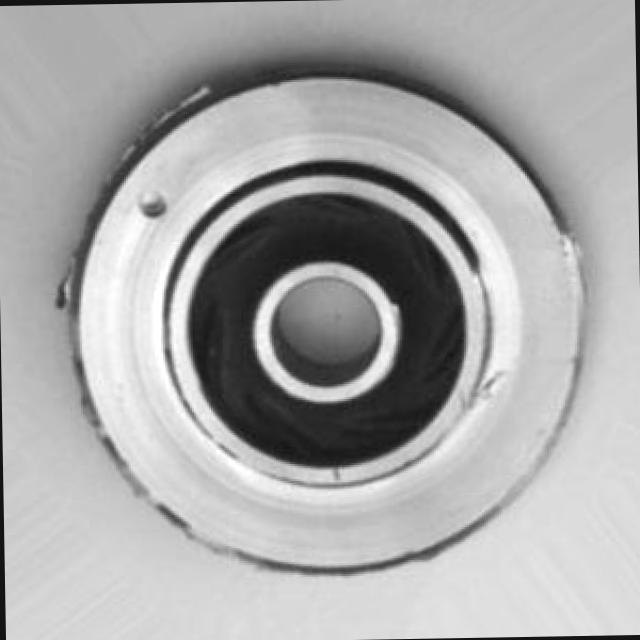Defect: (134, 178, 173, 224)
